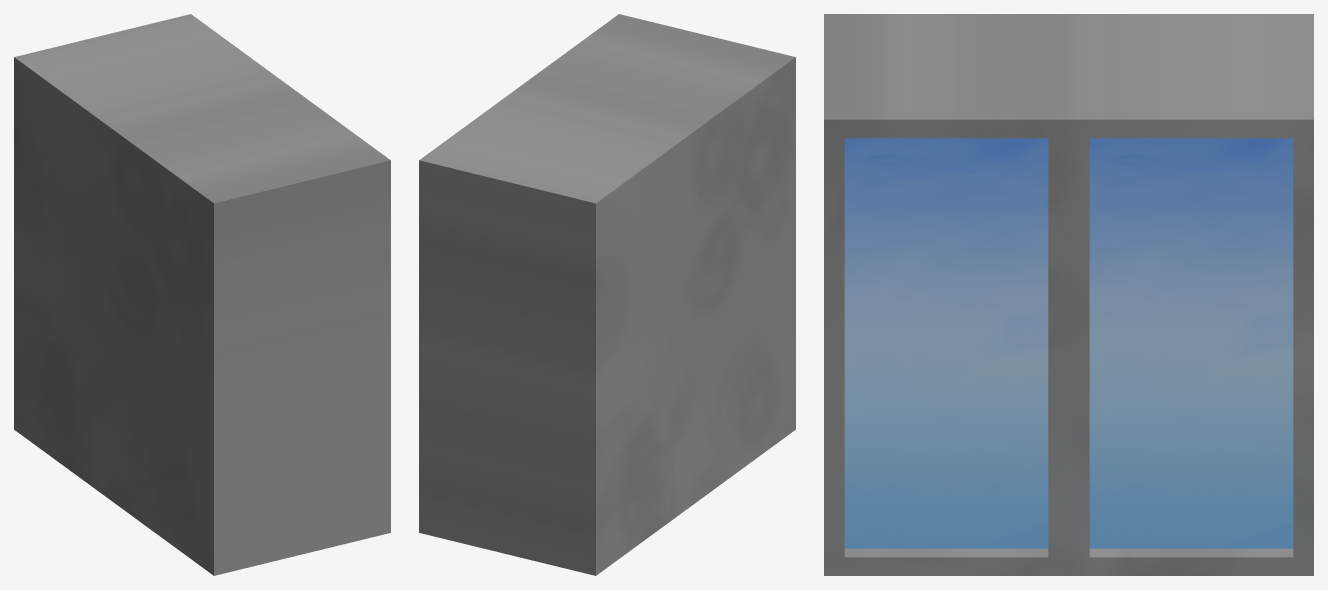
The model's file is Freezer.fbx.
3 views of the same model, side by side, from view 1: azimuth 30°, elevation 25°; view 2: azimuth 150°, elevation 25°; view 3: azimuth 270°, elevation 25° (orthographic). The views are drawn at different scales.
Visible parts, largest first — view 1: pCube36; view 2: pCube36; view 3: pCube36.
Part boxes in pixels (x1,y1,x2,y2): pCube36: (14, 14, 390, 575); pCube36: (419, 14, 795, 575); pCube36: (824, 14, 1313, 575).
Size of the model in its own units: 477 by 961 by 935.
